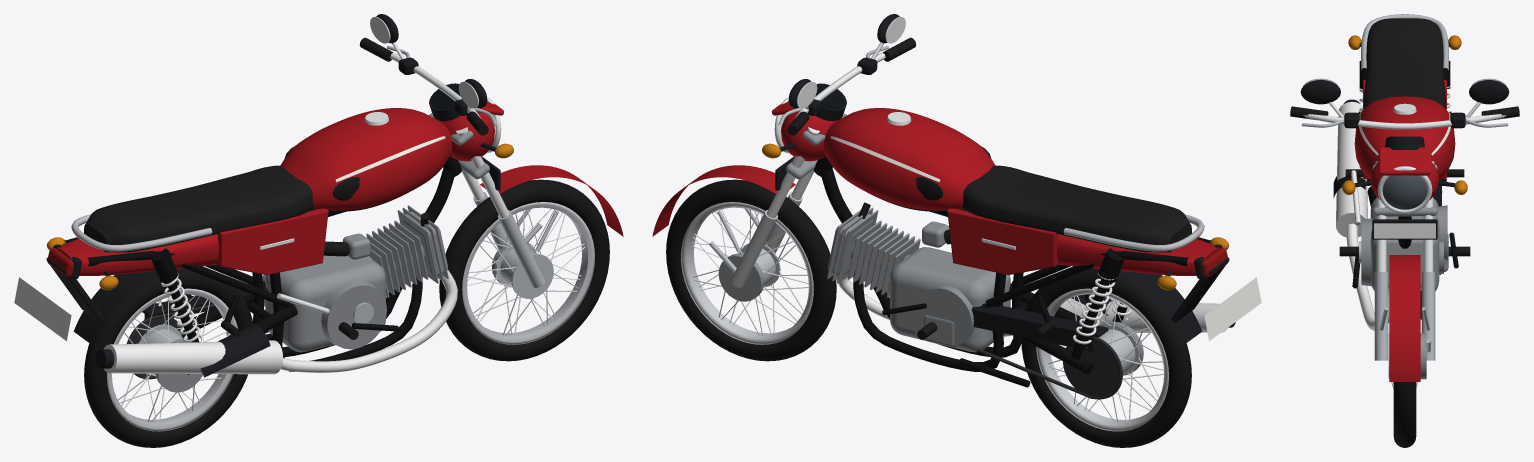
Rendered from motorcycle.glb.
3 views of the same model, side by side, from view 1: azimuth 30°, elevation 25°; view 2: azimuth 150°, elevation 25°; view 3: azimuth 270°, elevation 25° (orthographic). The views are drawn at different scales.
Visible parts, largest first — view 1: paint, cast, chrome, seat, wheel_front_tyre, trim_gloss, wheel_rear_tyre, trim, alu, wheel_front_rim, wheel_rear_rim, wheel_front_chrome (+6 smaller); view 2: paint, cast, seat, trim_gloss, wheel_front_tyre, wheel_rear_tyre, trim, chrome, wheel_front_rim, alu, wheel_rear_rim, wheel_front_chrome (+9 smaller); view 3: paint, chrome, seat, alu, trim, cast, wheel_front_tyre, rubber, headlight, trim_gloss, plate_front, indicator (+2 smaller).
Part boxes in pixels (x1,y1,x2,y2): paint: (56,101,623,275); cast: (262,113,489,352); chrome: (104,16,509,374); seat: (84,165,313,252); wheel_front_tyre: (439,179,609,361); trim_gloss: (64,156,462,374); wheel_rear_tyre: (84,268,253,447); trim: (46,14,500,377); alu: (71,45,558,323); wheel_front_rim: (462,202,594,344); wheel_rear_rim: (107,288,237,431); wheel_front_chrome: (467,208,585,335); paint: (652,101,1219,275); cast: (786,113,1010,352); seat: (962,165,1191,252); trim_gloss: (813,156,1211,387); wheel_front_tyre: (666,179,836,361); wheel_rear_tyre: (1021,268,1191,447); trim: (775,14,1235,351); chrome: (766,16,1227,347); wheel_front_rim: (681,202,813,344); alu: (709,45,1204,287); wheel_rear_rim: (1036,288,1168,431); wheel_front_chrome: (692,209,808,335); paint: (1354,80,1455,381); chrome: (1303,78,1506,330); seat: (1363,18,1446,109); alu: (1301,14,1508,360); trim: (1300,43,1509,239); cast: (1361,164,1448,290); wheel_front_tyre: (1393,382,1416,447); rubber: (1290,106,1519,256); headlight: (1382,175,1427,209); trim_gloss: (1352,61,1458,319); plate_front: (1374,223,1435,238); indicator: (1342,35,1467,194).
Bounding box in the file's own units: 2.02 × 1.12 × 0.7374.
